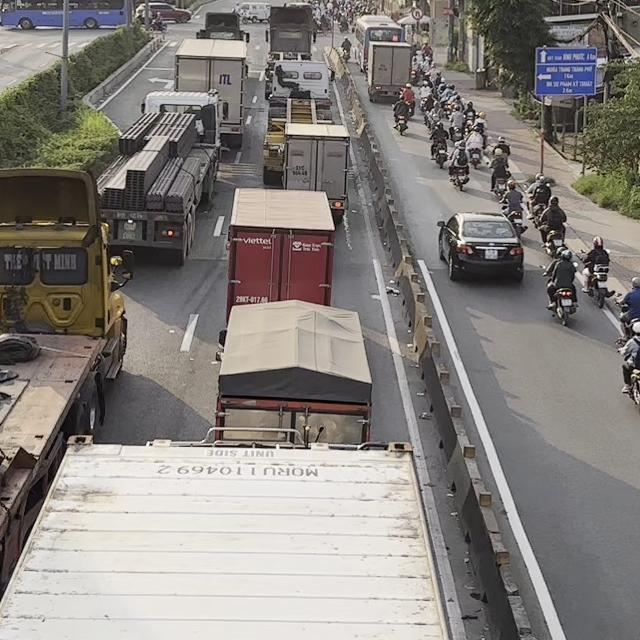bus: (354, 14, 404, 73)
car: (436, 210, 526, 282)
motorcycle: (540, 261, 578, 326), (580, 248, 615, 308), (615, 338, 639, 416), (523, 183, 552, 228), (541, 219, 570, 257), (499, 205, 529, 237), (485, 160, 508, 199), (447, 161, 470, 191), (429, 134, 448, 169), (467, 145, 484, 169), (393, 112, 408, 135), (449, 123, 464, 142)
truck: (0, 425, 450, 640), (0, 166, 132, 622), (213, 298, 373, 447), (94, 89, 222, 266), (216, 186, 336, 327), (262, 60, 335, 182), (172, 36, 249, 147), (280, 122, 350, 224), (265, 2, 317, 99), (365, 40, 413, 103), (195, 11, 251, 42)
